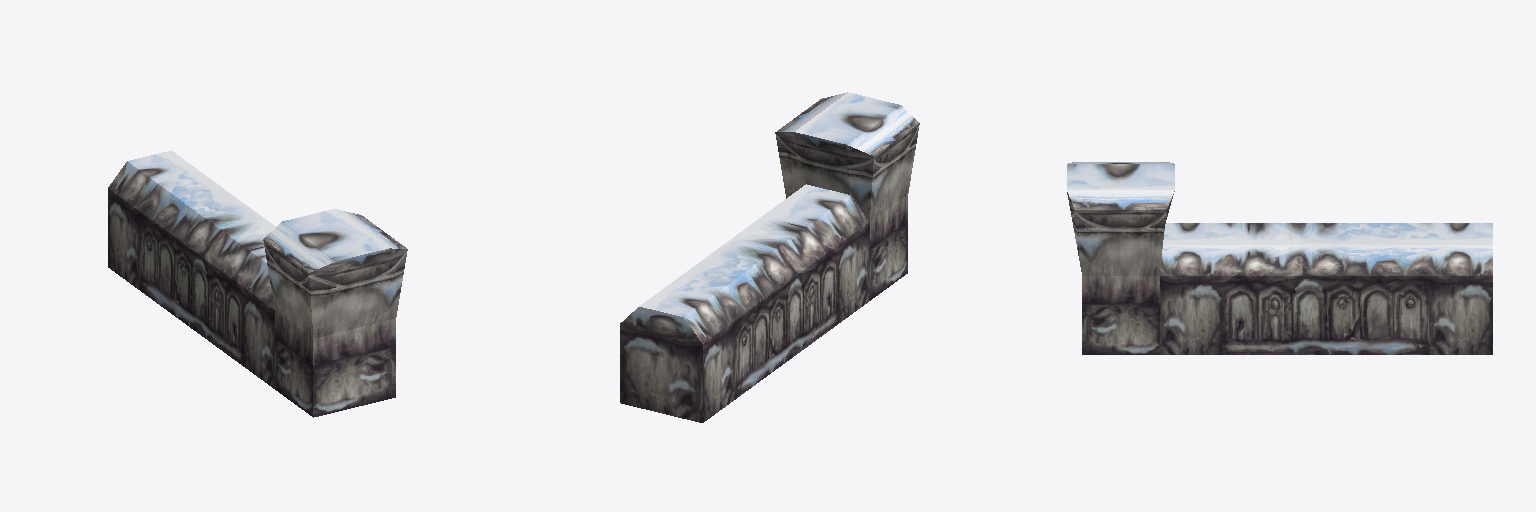
3 views of the same model, side by side, from view 1: azimuth 30°, elevation 25°; view 2: azimuth 150°, elevation 25°; view 3: azimuth 270°, elevation 25° (orthographic).
Parts seen in each view (by area): view 1: dunmoroghstonefence02; view 2: dunmoroghstonefence02; view 3: dunmoroghstonefence02.
Part boxes in pixels (x1,y1,x2,y2): dunmoroghstonefence02: (108, 150, 407, 417); dunmoroghstonefence02: (620, 92, 919, 422); dunmoroghstonefence02: (1067, 162, 1492, 354).
Size of the model in its own units: 0.8328 by 1.28 by 3.12.
1 materials, 1 textured.